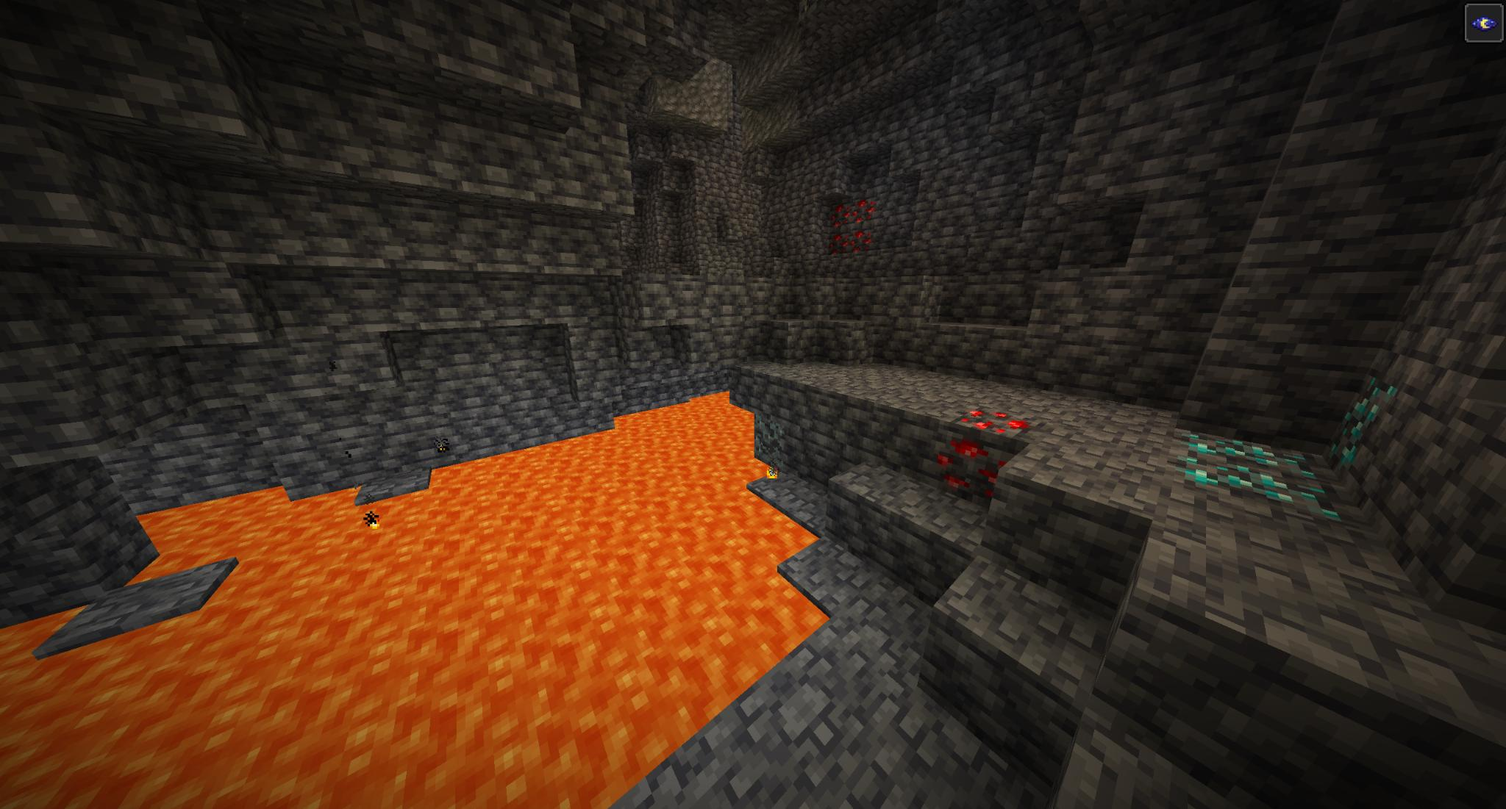diamond ore: (1180, 428, 1345, 517), (1328, 375, 1399, 469)
redstone ore: (930, 406, 1031, 501), (831, 206, 874, 249)
